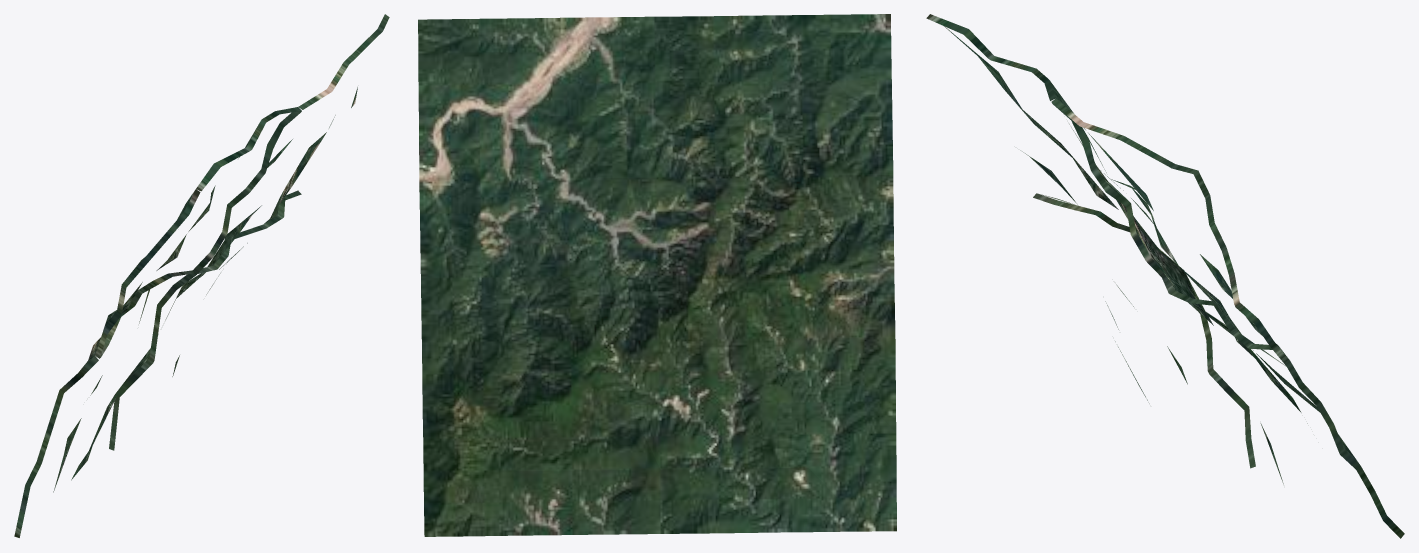
The picture shows the model from 3 angles, left to right: view 1: azimuth 30°, elevation 25°; view 2: azimuth 150°, elevation 25°; view 3: azimuth 270°, elevation 25°; orthographic projection. The views are drawn at different scales.
Size of the model in its own units: 19404 by 18198 by 18117.
Materials: 1 (1 with a texture image).
